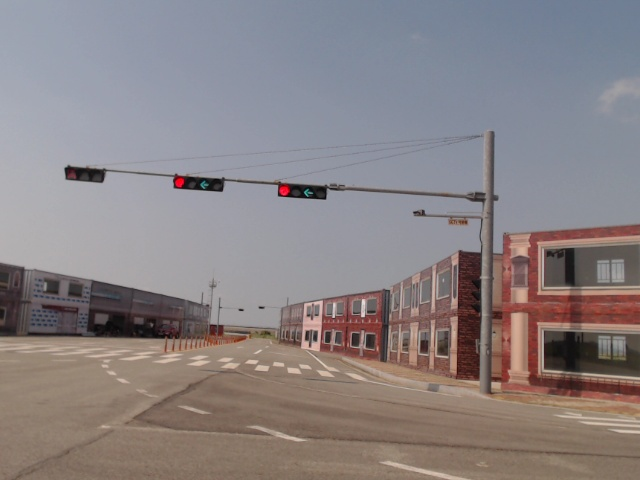left_green_4: (174, 175, 224, 192), (279, 184, 326, 200)
